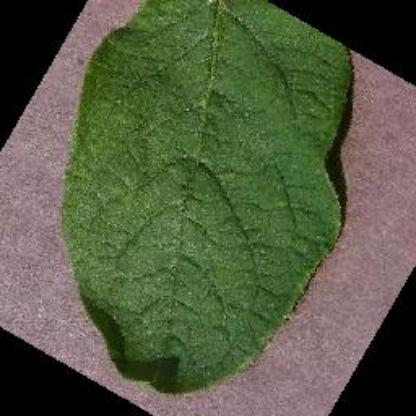Healthy-plant: (62, 0, 354, 394)
